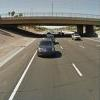Bridge: (3, 3, 95, 38)
